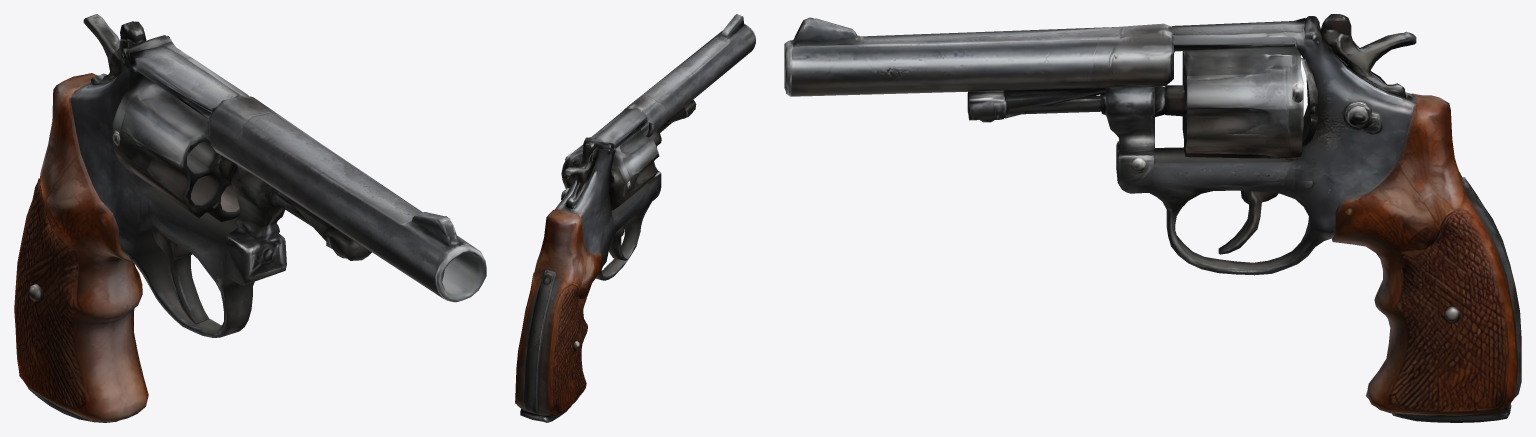
The model's file is SW_Victory_Model.glb.
The picture shows the model from 3 angles, left to right: view 1: azimuth 30°, elevation 25°; view 2: azimuth 150°, elevation 25°; view 3: azimuth 270°, elevation 25°; orthographic projection. The views are drawn at different scales.
Visible parts, largest first — view 1: tripo_node_8082e664-82ad-4da5-9dd9-5cd282723b35; view 2: tripo_node_8082e664-82ad-4da5-9dd9-5cd282723b35; view 3: tripo_node_8082e664-82ad-4da5-9dd9-5cd282723b35.
Part boxes in pixels (<box>): tripo_node_8082e664-82ad-4da5-9dd9-5cd282723b35: <box>14,14,486,422</box>; tripo_node_8082e664-82ad-4da5-9dd9-5cd282723b35: <box>515,14,755,422</box>; tripo_node_8082e664-82ad-4da5-9dd9-5cd282723b35: <box>784,14,1521,422</box>.
Bounding box in the file's own units: 0.166 × 0.5957 × 0.998.
1 material, 1 textured.
